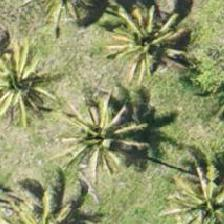coconut_tree: (54, 92, 144, 182), (96, 0, 186, 83), (160, 162, 223, 223)
